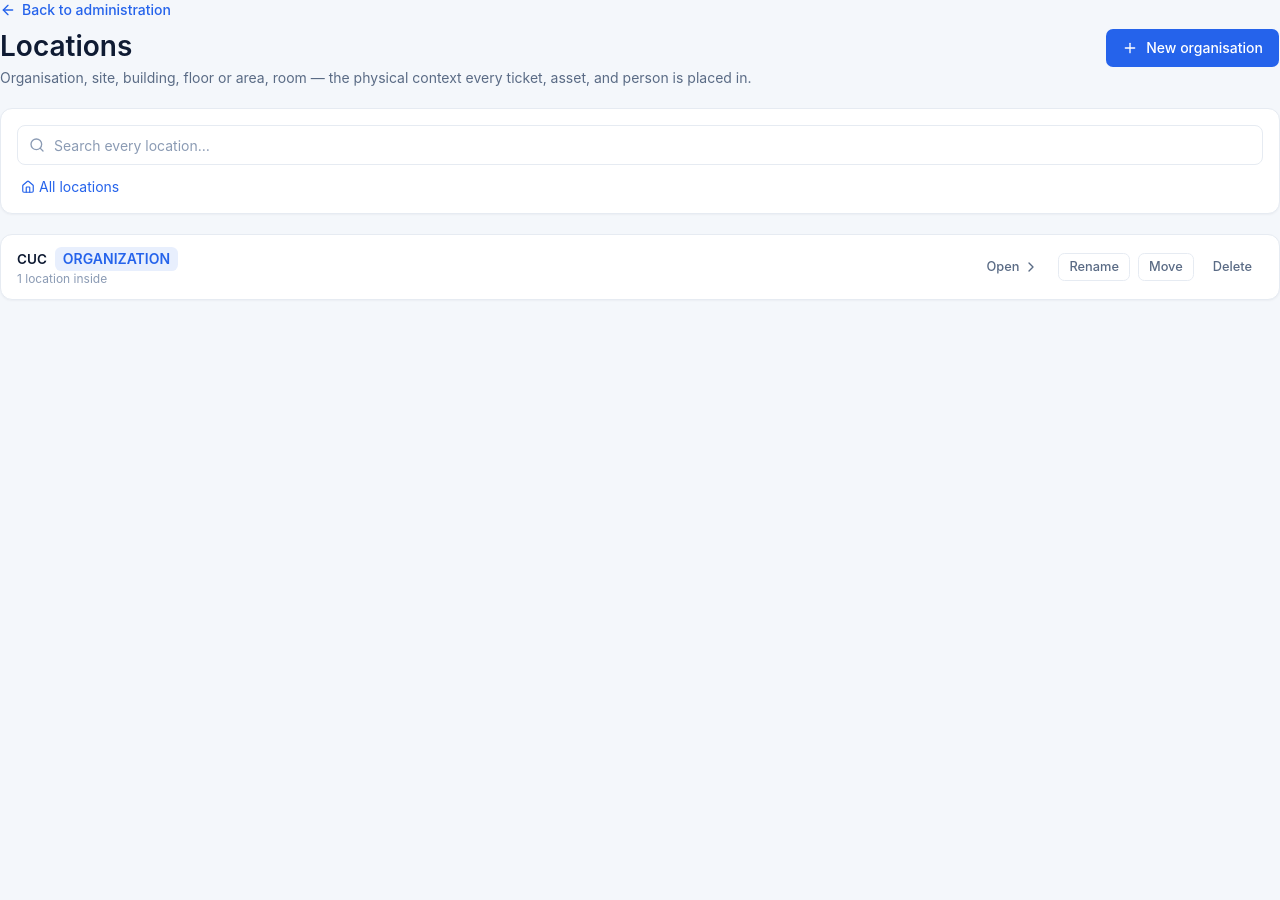
Test case: LocationsPage › shows a node’s level read-only when renaming, with the reason
Expected: the text "CUC" is shown, [17,249,47,269]
Click the button "Rename" at (1094, 267), box [1058,253,1130,281]
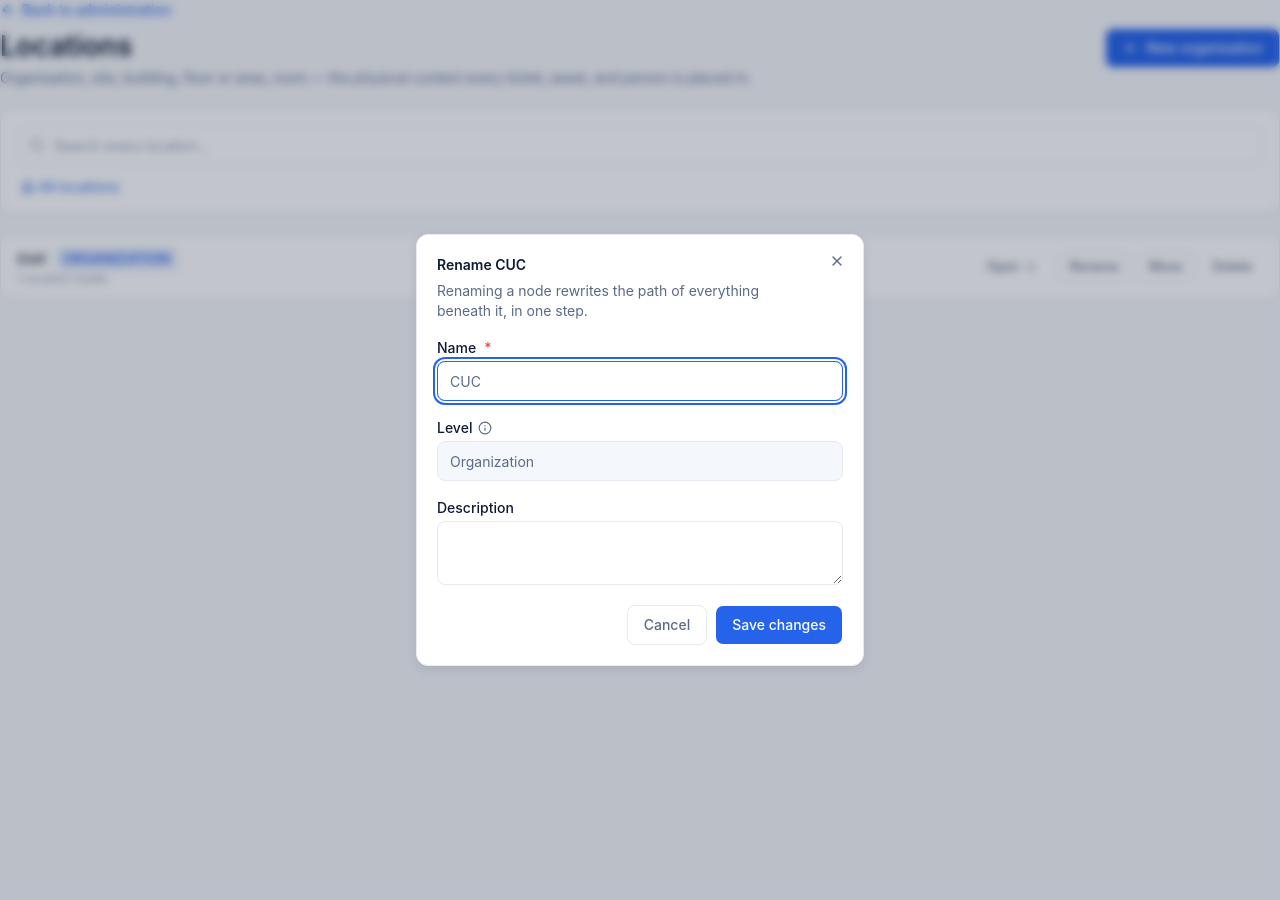
Expected: the field labelled "Level" holds "Organization", [437,441,843,481]
